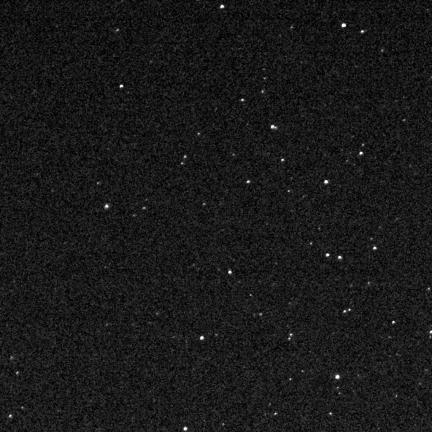blob: (104, 204, 110, 210), (271, 125, 277, 129), (335, 375, 340, 379), (338, 256, 342, 260), (324, 180, 328, 184), (228, 270, 232, 274), (392, 321, 396, 325), (200, 336, 204, 340), (241, 99, 245, 103), (342, 24, 346, 27), (361, 30, 364, 34), (281, 159, 285, 162), (220, 5, 224, 8), (246, 181, 251, 183), (373, 247, 376, 250), (120, 85, 123, 88), (326, 254, 329, 257), (360, 152, 363, 155)
